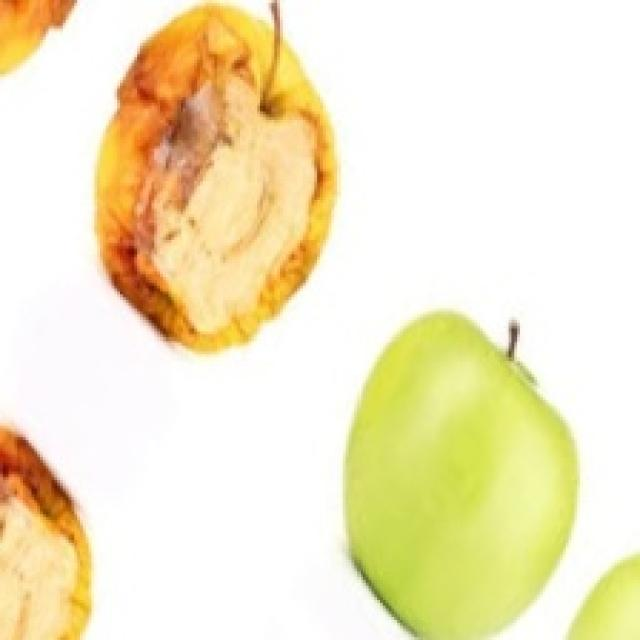rotten_apple: (99, 2, 336, 342)
